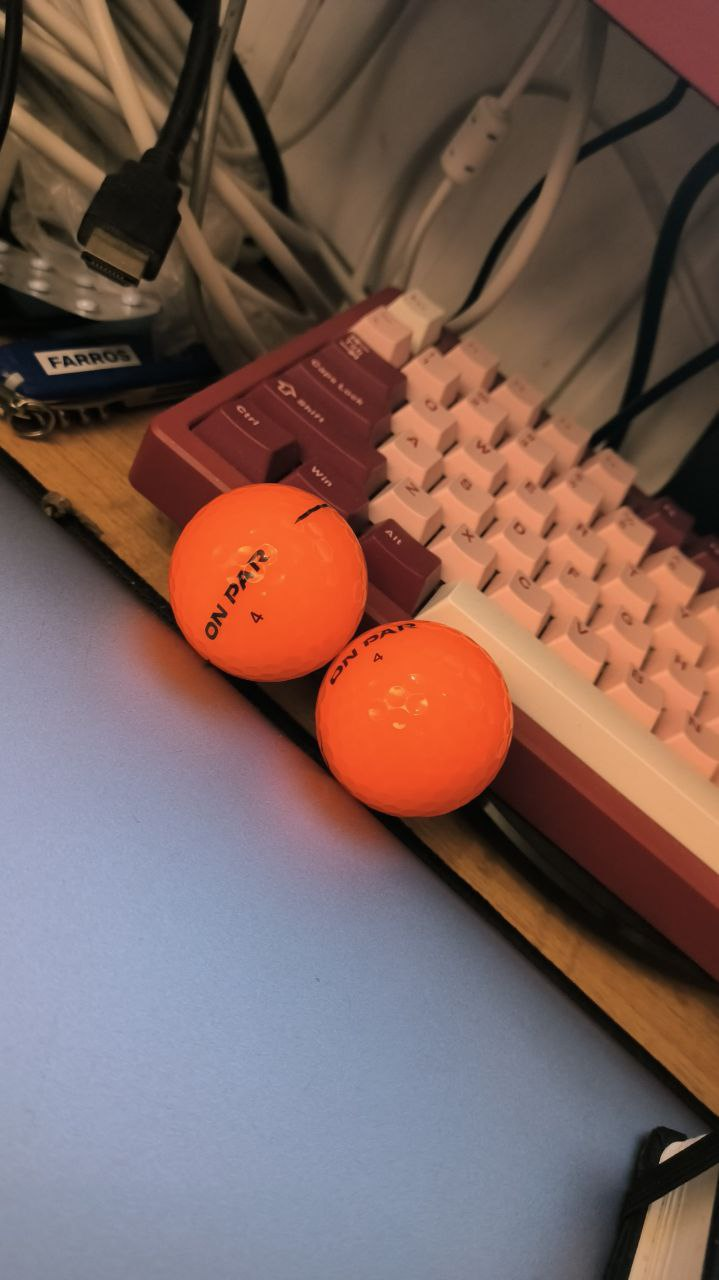orange_ball: (168, 482, 369, 683), (314, 619, 513, 819)
